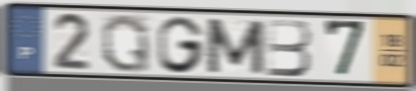2: (51, 11, 93, 72)
7: (322, 18, 367, 81)
B: (265, 17, 314, 79)
G: (156, 14, 207, 75)
M: (203, 16, 267, 76)
Q: (99, 11, 153, 74)
